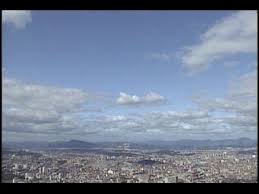sky: (4, 12, 255, 140)
